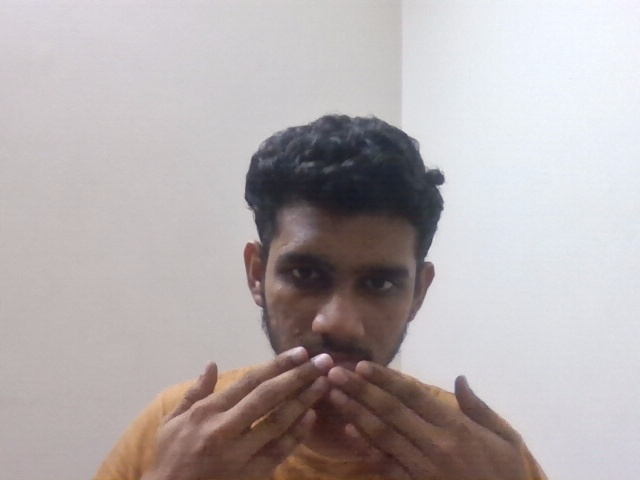thanks: (99, 341, 556, 474)
